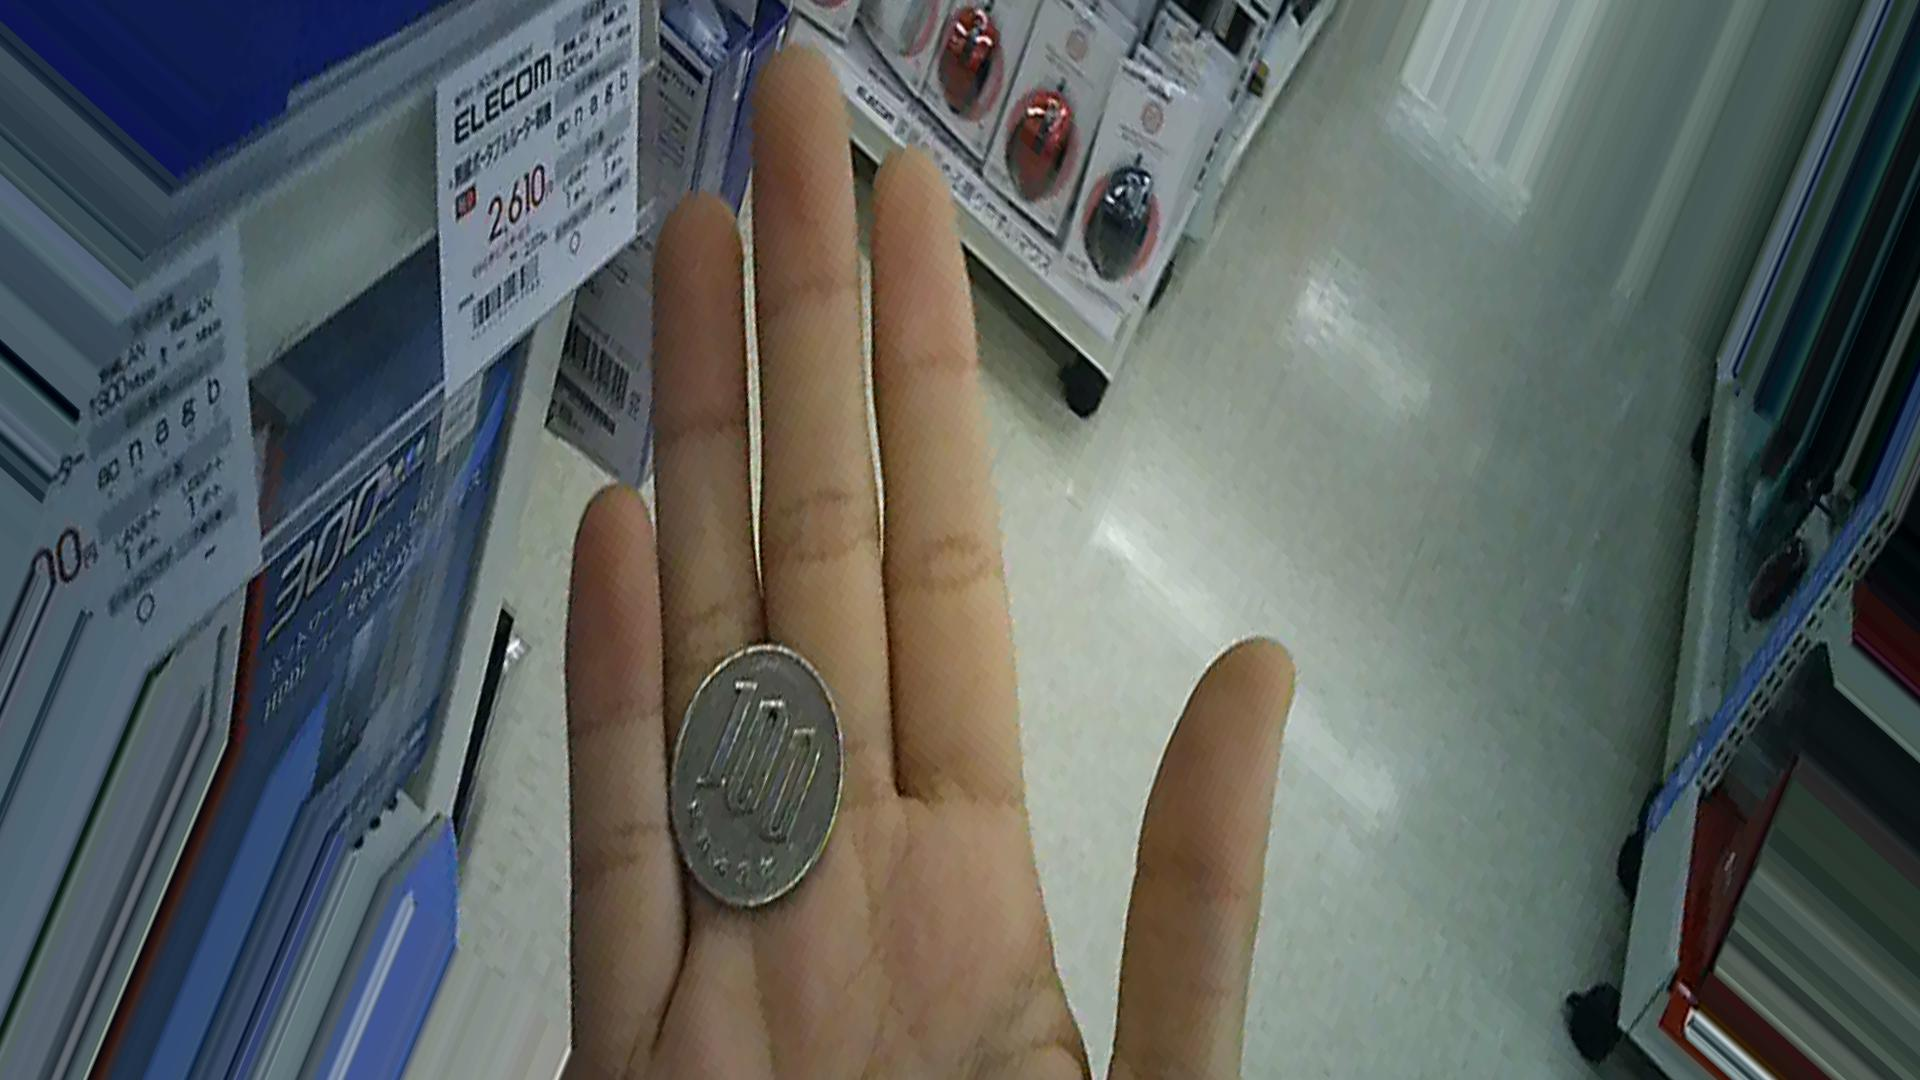100 Yen: (669, 637, 847, 911)
